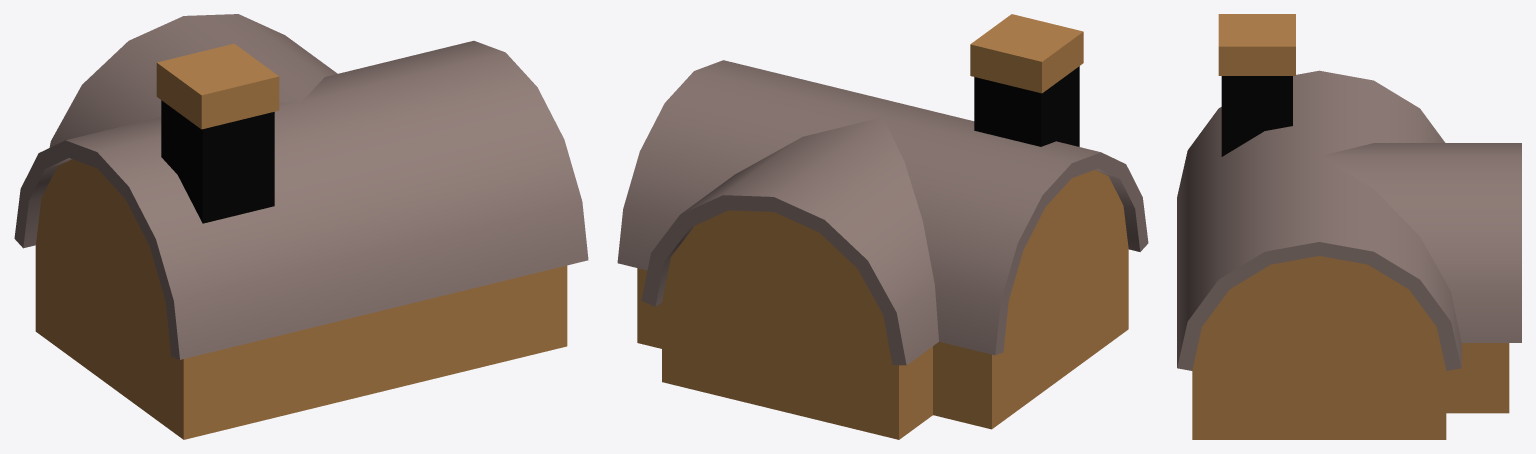
File: Map-House-R-Lv2-R.fbx
The picture shows the model from 3 angles, left to right: view 1: azimuth 30°, elevation 25°; view 2: azimuth 150°, elevation 25°; view 3: azimuth 270°, elevation 25°; orthographic projection. The views are drawn at different scales.
Visible parts, largest first — view 1: Map-House-R-Lv2-R; view 2: Map-House-R-Lv2-R; view 3: Map-House-R-Lv2-R.
Boxes of the visible parts, bbox=[...] form: Map-House-R-Lv2-R: bbox=[14, 14, 588, 439]; Map-House-R-Lv2-R: bbox=[617, 14, 1148, 439]; Map-House-R-Lv2-R: bbox=[1177, 14, 1521, 439].
Bounding box in the file's own units: 1.91 × 1.45 × 1.63.
